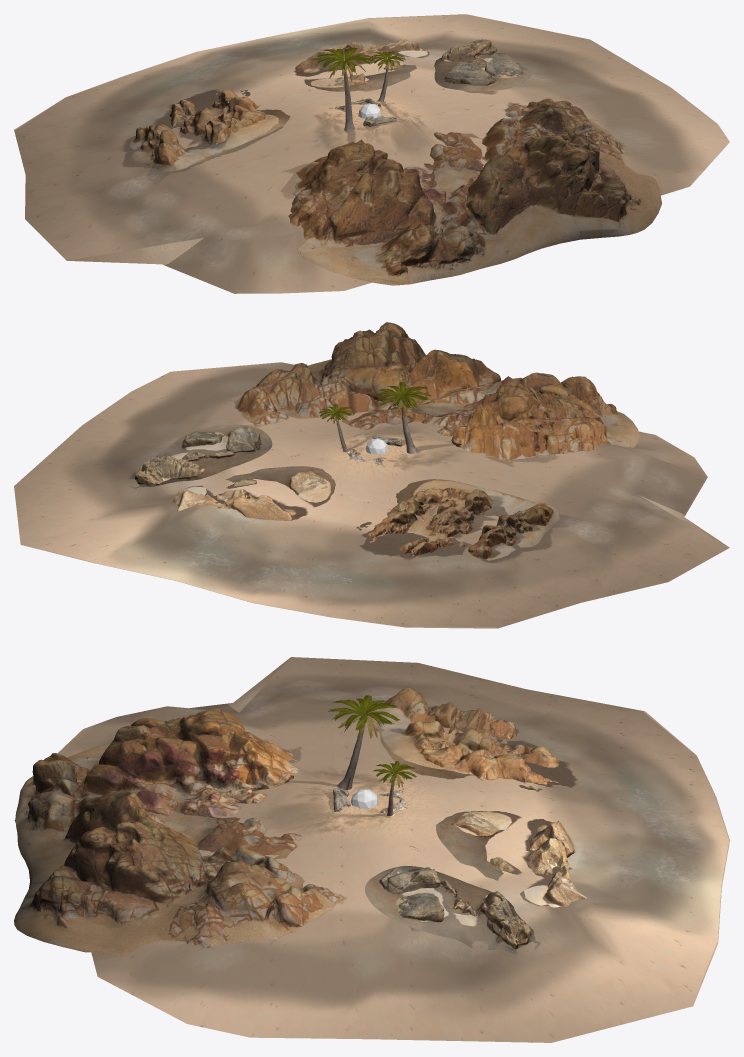
The model's file is island.glb.
3 views of the same model, one above another, from view 1: azimuth 30°, elevation 25°; view 2: azimuth 150°, elevation 25°; view 3: azimuth 270°, elevation 25° (orthographic). The views are drawn at different scales.
Parts seen in each view (by area): view 1: Aset_rock_assembly_M_udxkec2fa_LOD2; view 2: Aset_rock_assembly_M_udxkec2fa_LOD2; view 3: Aset_rock_assembly_M_udxkec2fa_LOD2.
Boxes of the visible parts, box(x1,y1,x2,y2) form: Aset_rock_assembly_M_udxkec2fa_LOD2: box(14, 14, 729, 293); Aset_rock_assembly_M_udxkec2fa_LOD2: box(14, 322, 729, 628); Aset_rock_assembly_M_udxkec2fa_LOD2: box(14, 657, 729, 1042).
Size of the model in its own units: 60.88 by 11.1 by 49.08.
Materials: 7 (7 with a texture image).
